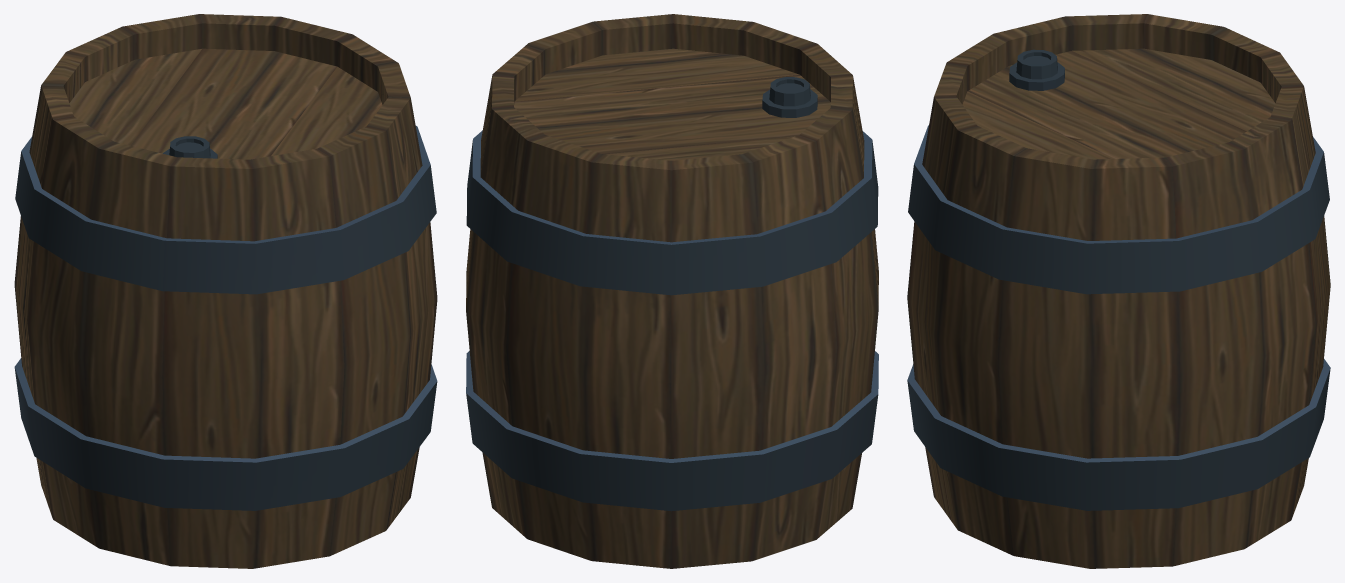
Rendered from barrell.fbx.
3 views of the same model, side by side, from view 1: azimuth 30°, elevation 25°; view 2: azimuth 150°, elevation 25°; view 3: azimuth 270°, elevation 25° (orthographic).
Visible parts, largest first — view 1: Barel.003; view 2: Barel.003; view 3: Barel.003.
Part boxes in pixels (<box>): Barel.003: <box>14,14,437,568</box>; Barel.003: <box>466,14,878,568</box>; Barel.003: <box>907,14,1330,568</box>.
Size of the model in its own units: 159 by 167 by 160.
